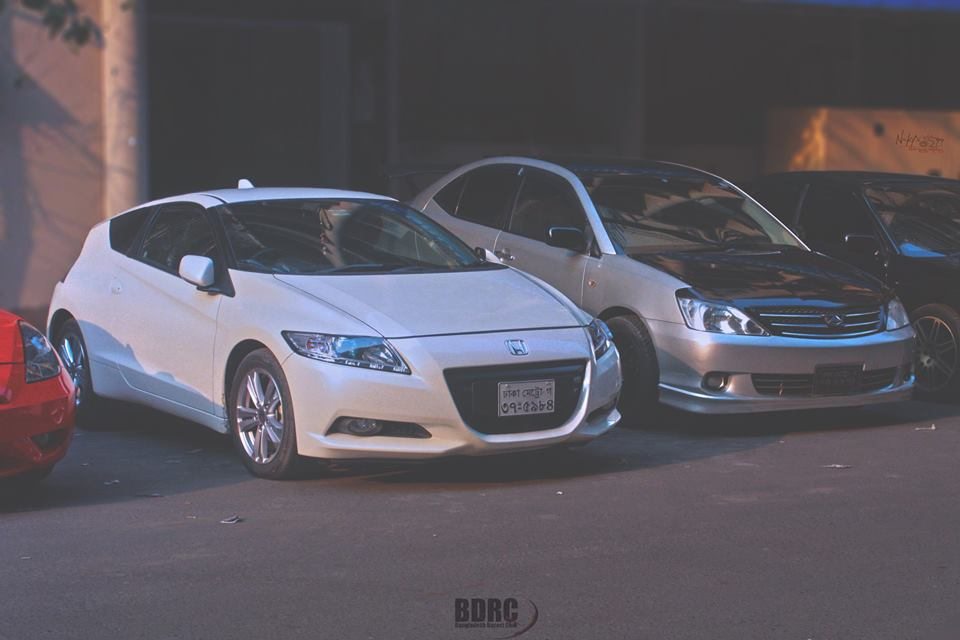registration_plate: (496, 378, 556, 419)
